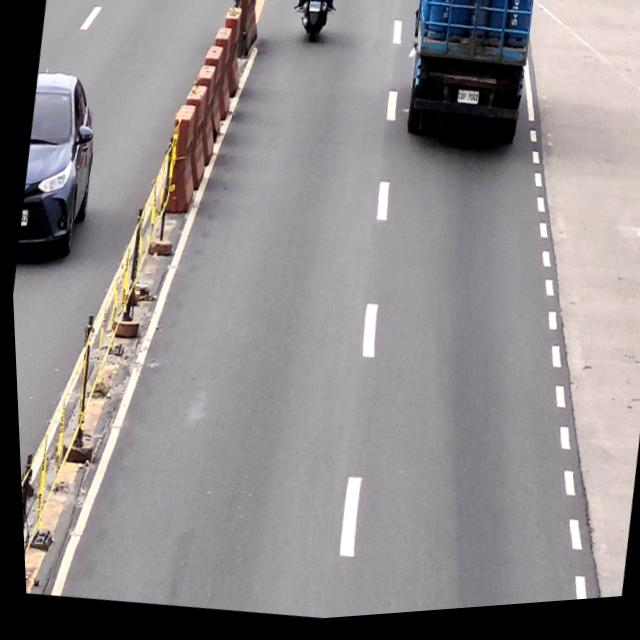License-Plate: (454, 95, 479, 114), (308, 3, 322, 17)
Motorcycle: (294, 0, 336, 46)
Truck: (395, 0, 540, 163)
